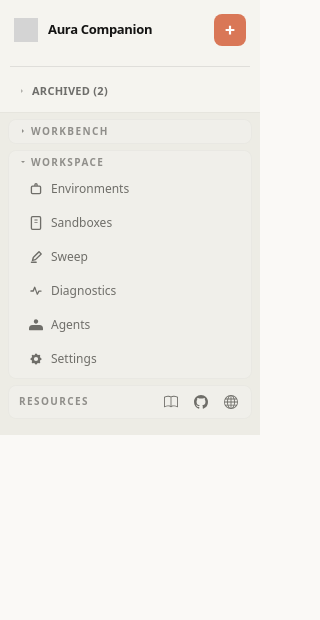
it: Sidebar › shows 'Delete all' button when archived section is expanded with multiple sessions
expect the text "Delete all" is not shown: met
Note: Expand archived section
Click the button "Archived (2)" at (130,91), box x1=10 y1=79 x2=250 y2=104
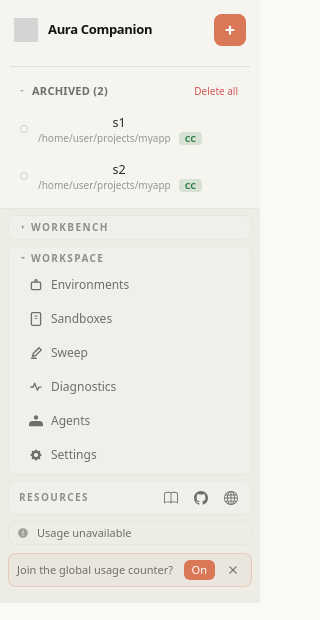
expect the button "Delete all" is shown: met, box x1=186 y1=82 x2=246 y2=101
